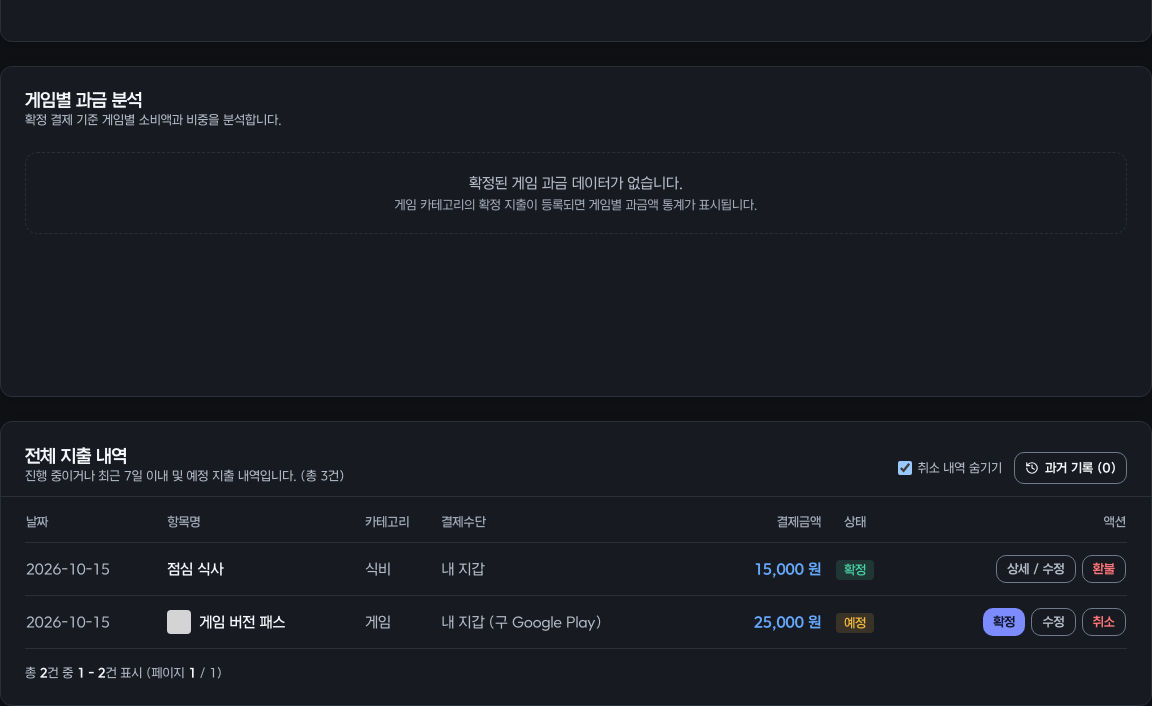
Test case: ExpensesPage › PLANNED 항목에서 [수정] 클릭 시 ExpenseModal이 열린다
(page scrolled)
Click the button "수정". click: (1054, 622)
box: x1=1031 y1=608 x2=1076 y2=636
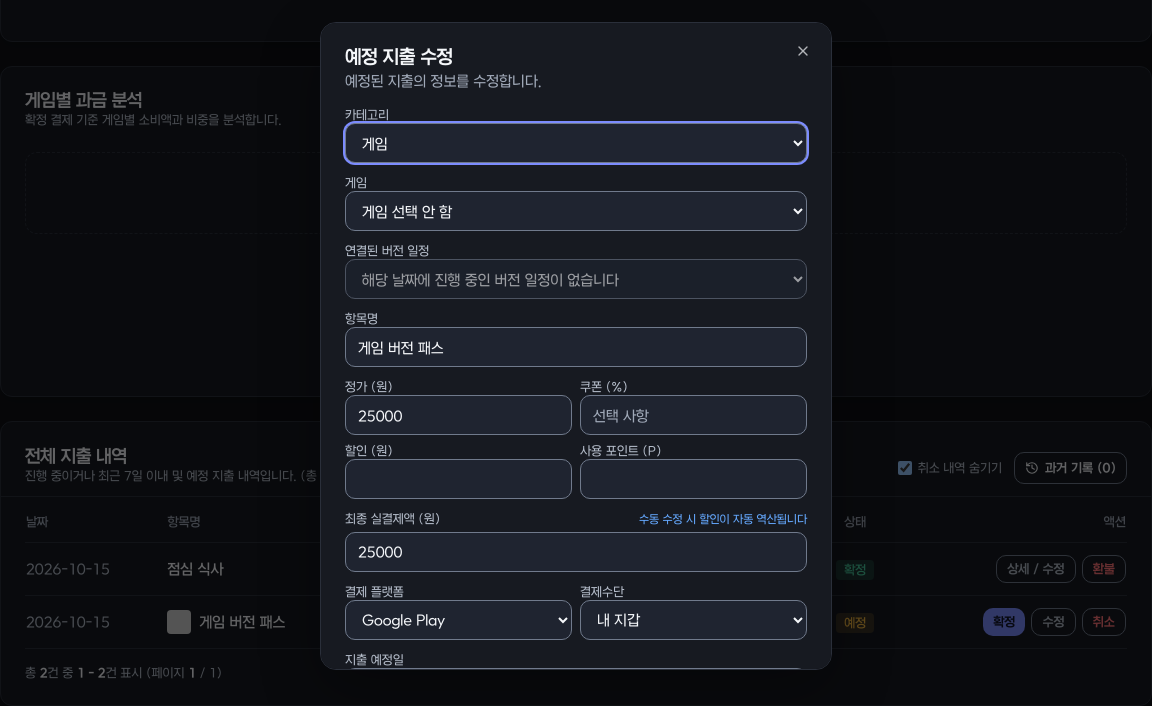
Check: the heading "예정 지출 수정" is shown, box x1=345 y1=45 x2=453 y2=67
